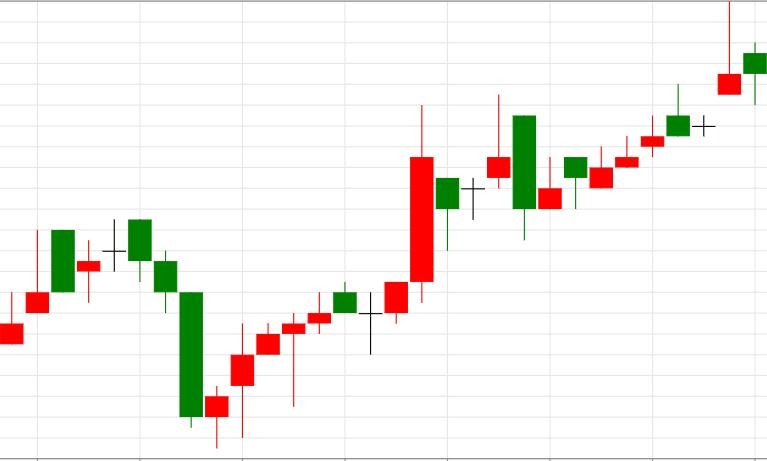hanging_man_fall: (205, 106, 458, 448)
shooting_star_fall: (205, 95, 510, 448), (590, 2, 741, 189)
three_black_crows_fall: (1, 218, 202, 428)
